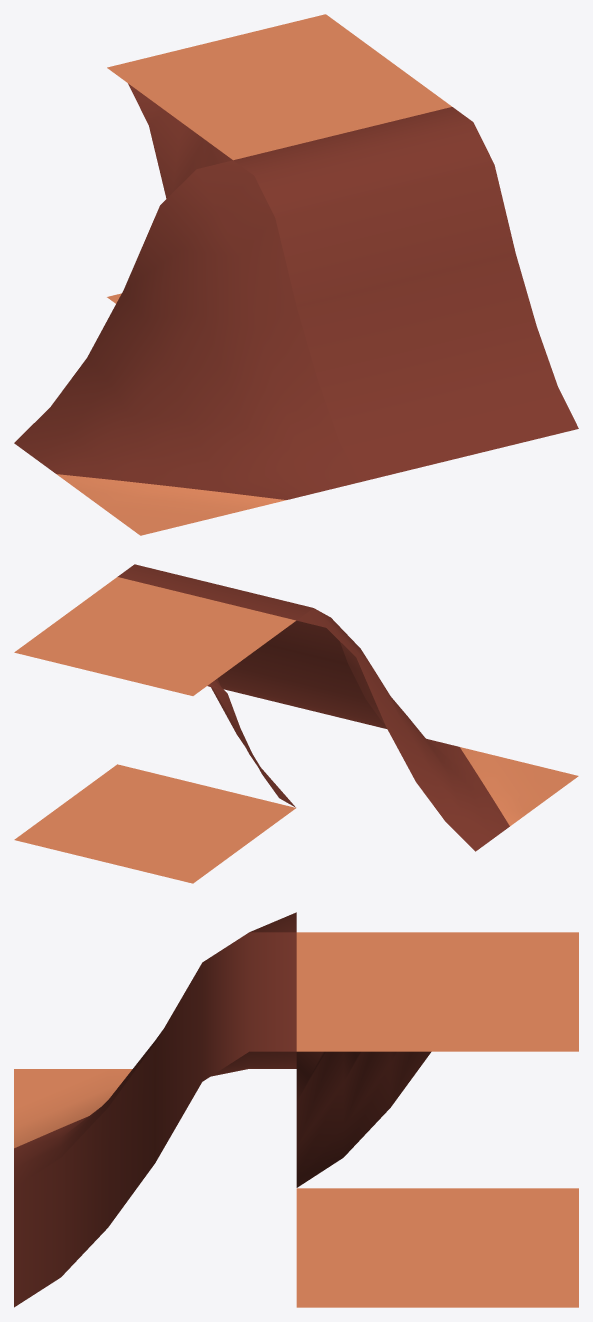
The model's file is assets.fbx.
3 views of the same model, one above another, from view 1: azimuth 30°, elevation 25°; view 2: azimuth 150°, elevation 25°; view 3: azimuth 270°, elevation 25° (orthographic). The views are drawn at different scales.
Parts seen in each view (by area): view 1: High_half, High_half_ corner, High, High_corner; view 2: Flat, High, High_half_ corner, High_half, High_corner; view 3: High_half, Flat, High, High_corner, High_half_ corner.
Boxes of the visible parts, left/top/right/bottom form: High_half: left=233, top=107, right=578, bottom=482; High_half_ corner: left=14, top=160, right=359, bottom=535; High: left=107, top=14, right=451, bottom=160; High_corner: left=128, top=83, right=232, bottom=198; Flat: left=14, top=764, right=295, bottom=883; High: left=14, top=577, right=295, bottom=695; High_half_ corner: left=297, top=608, right=578, bottom=851; High_half: left=117, top=564, right=386, bottom=728; High_corner: left=207, top=678, right=295, bottom=807; High_half: left=14, top=932, right=296, bottom=1307; Flat: left=296, top=1188, right=578, bottom=1307; High: left=296, top=932, right=578, bottom=1051; High_corner: left=296, top=1051, right=431, bottom=1187; High_half_ corner: left=14, top=912, right=296, bottom=1187.
Size of the model in its own units: 2000 by 1000 by 2000.
